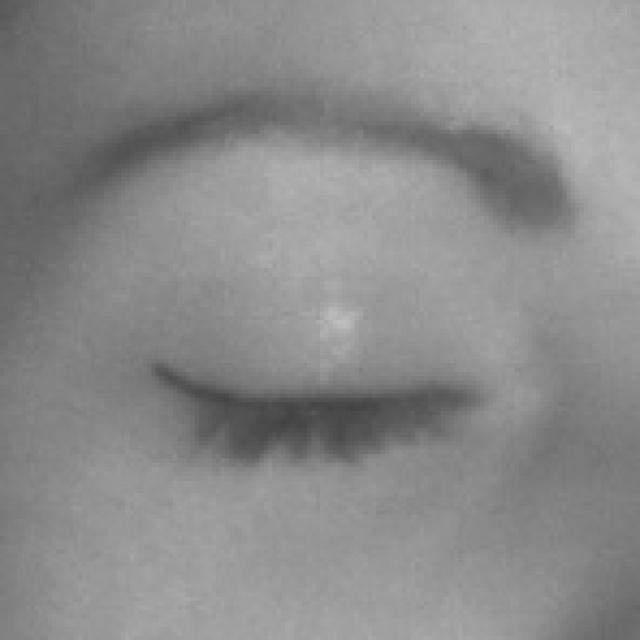close: (0, 66, 636, 570)
